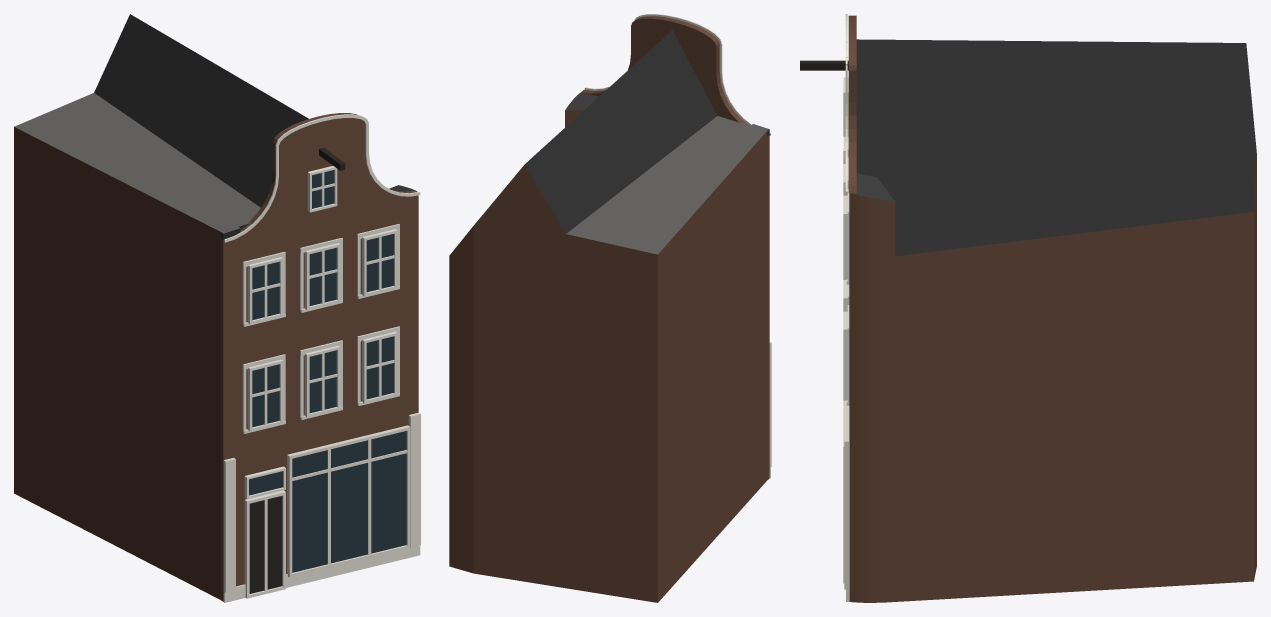
3 views of the same model, side by side, from view 1: azimuth 30°, elevation 25°; view 2: azimuth 150°, elevation 25°; view 3: azimuth 270°, elevation 25° (orthographic). The views are drawn at different scales.
Parts seen in each view (by area): view 1: spec-0363100012179005; view 2: spec-0363100012179005; view 3: spec-0363100012179005.
Part boxes in pixels (left/top/right/bottom): spec-0363100012179005: left=14, top=14, right=420, bottom=602; spec-0363100012179005: left=449, top=14, right=771, bottom=602; spec-0363100012179005: left=800, top=14, right=1256, bottom=602.
Size of the model in its own units: 7.06 by 12.79 by 10.17.
